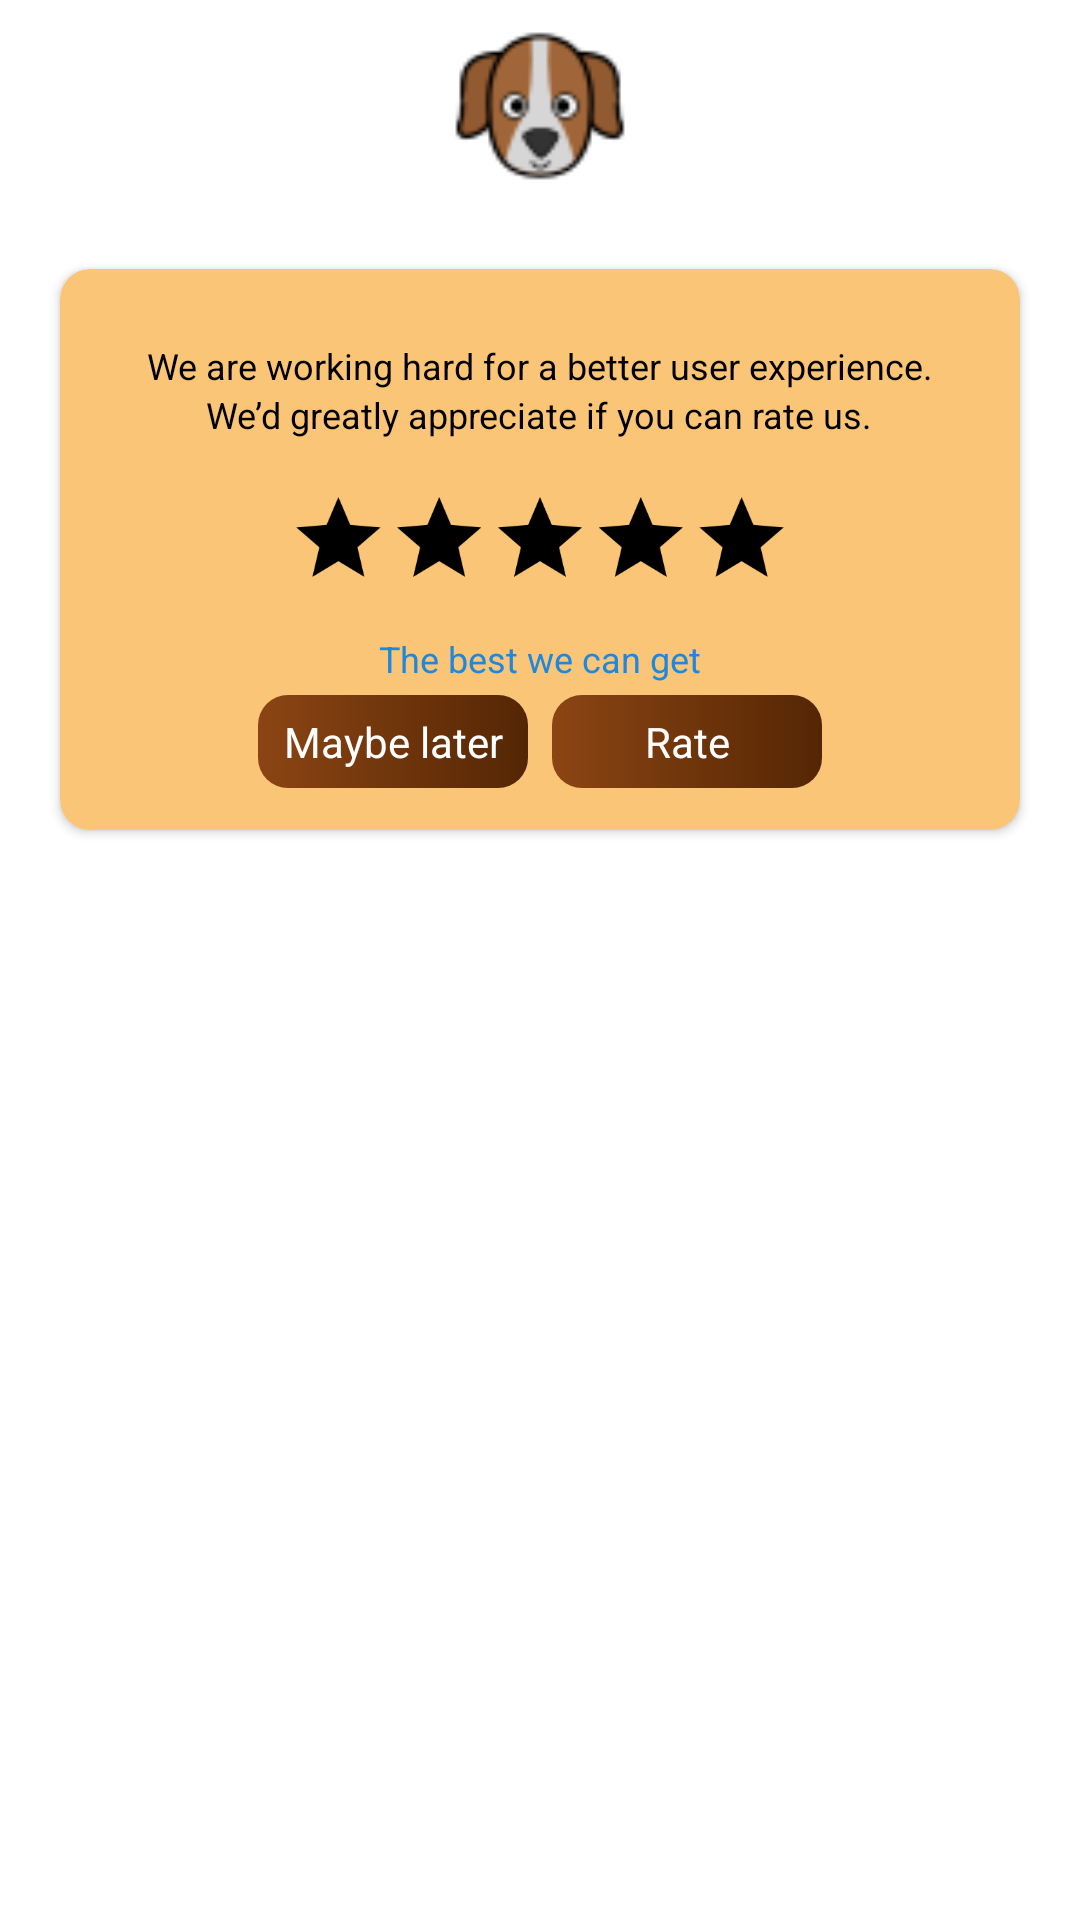

Icon bounding boxes for this 1080px x 1920px phone screenshot, format (x1, y1, x2, y2):
dog: (455, 32, 625, 180)
